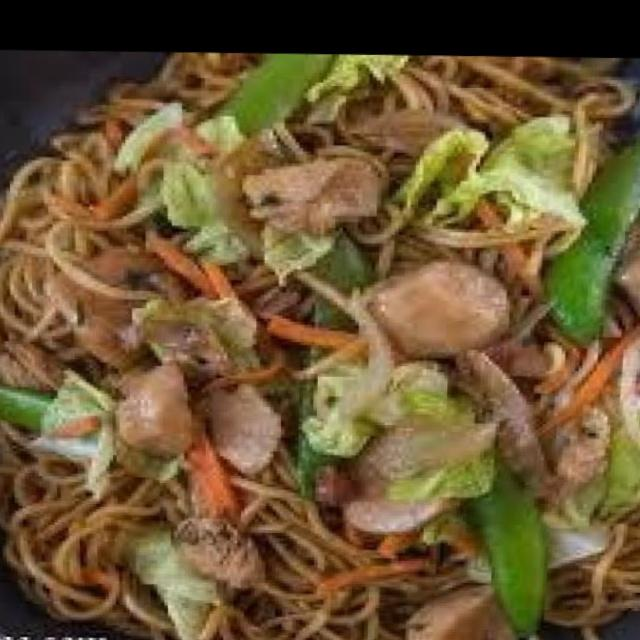pancit bihon: (0, 57, 639, 639)
